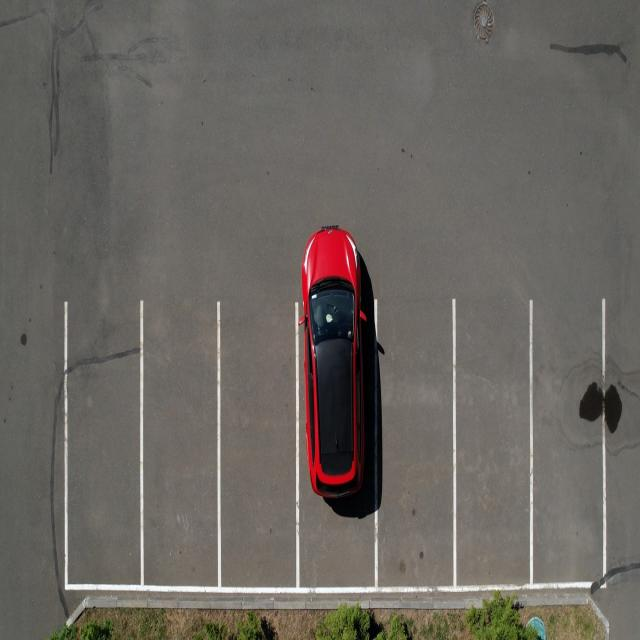space-empty: (377, 280, 457, 587), (139, 300, 221, 590), (452, 296, 534, 585), (62, 302, 144, 588), (219, 298, 299, 589), (528, 297, 608, 587)
space-occupied: (296, 260, 376, 588)
